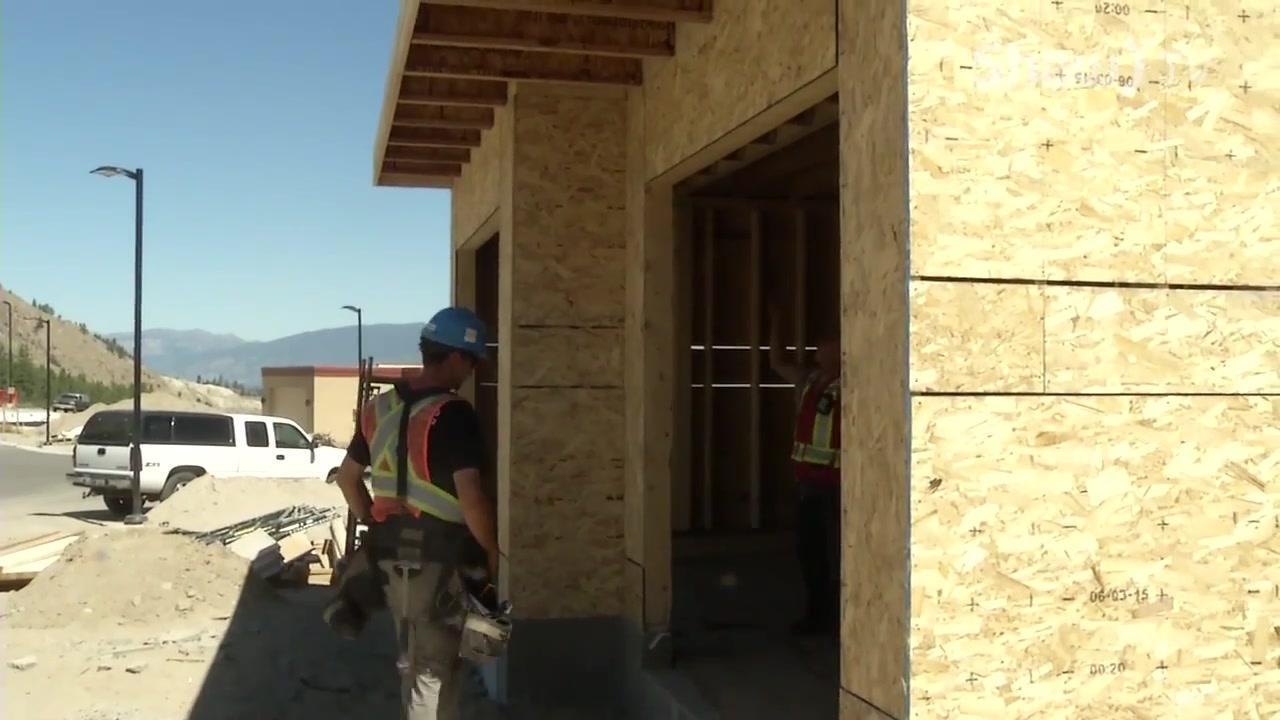vest: (356, 383, 463, 522), (791, 369, 841, 484)
